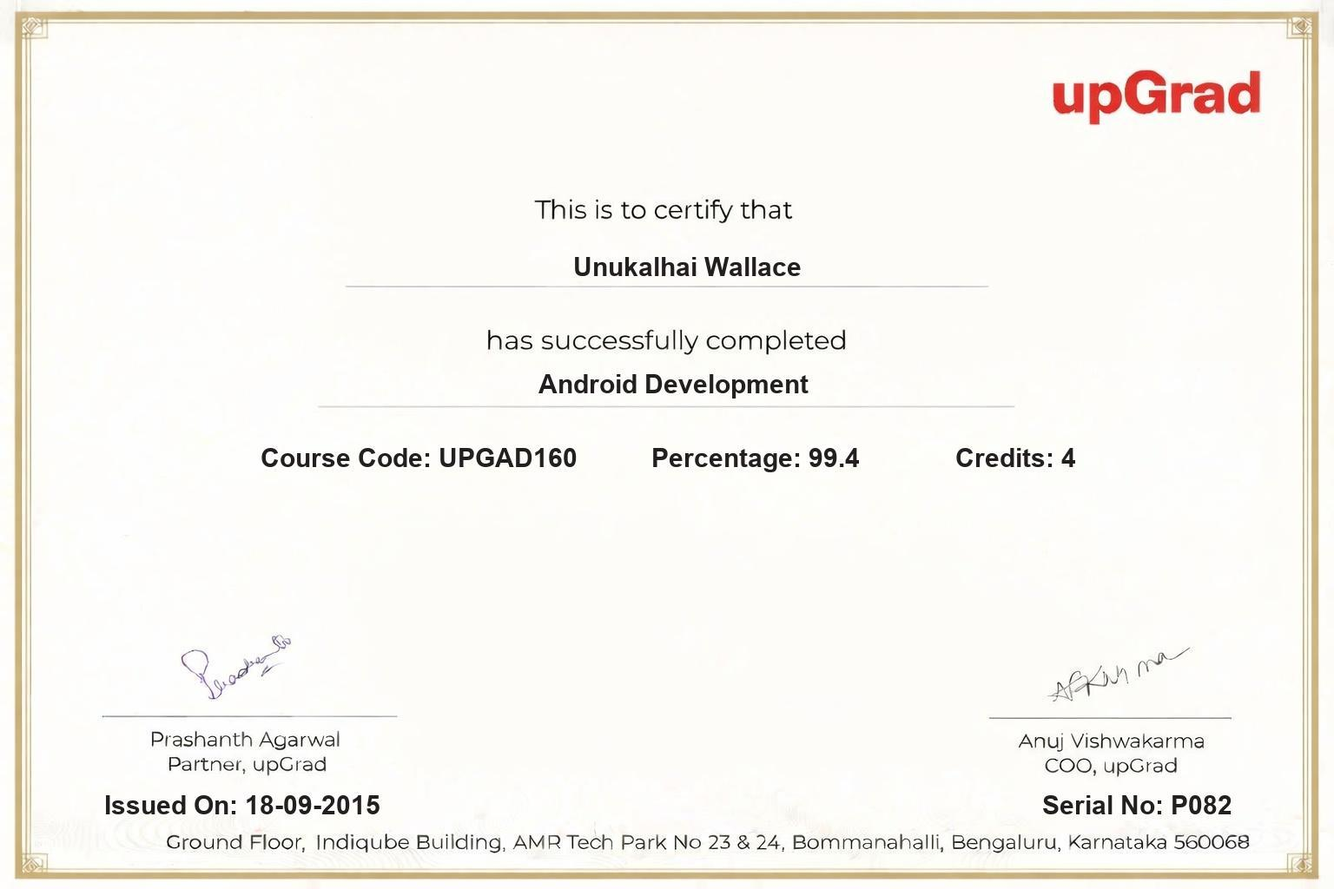Course Code: (433, 439, 587, 482)
Course Name: (530, 368, 811, 406)
Credits: (1055, 439, 1085, 476)
Issued On: (237, 785, 388, 826)
Percentage: (803, 437, 870, 480)
Serial No: (1164, 782, 1236, 826)
Student Name: (569, 244, 813, 286)
